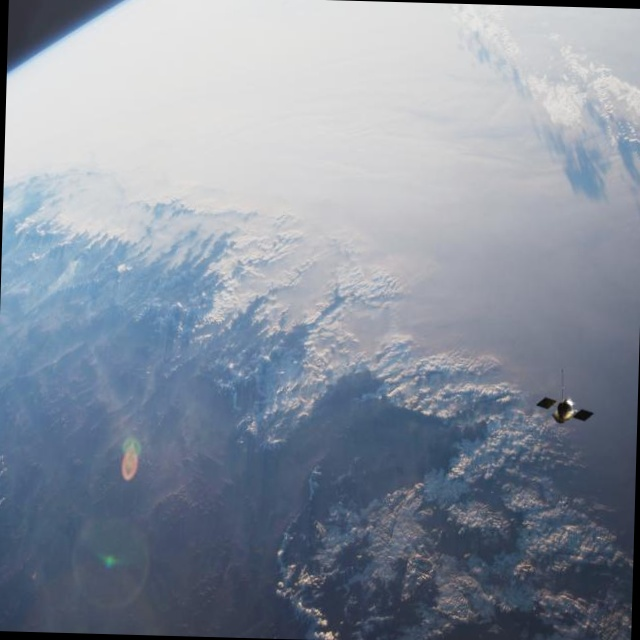satellite: (525, 381, 601, 434)
